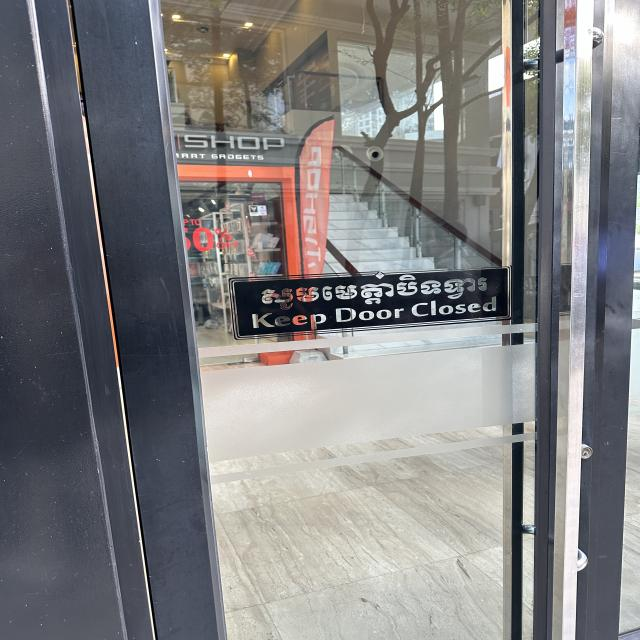Yolov11_80vkh: (252, 270, 493, 313)
